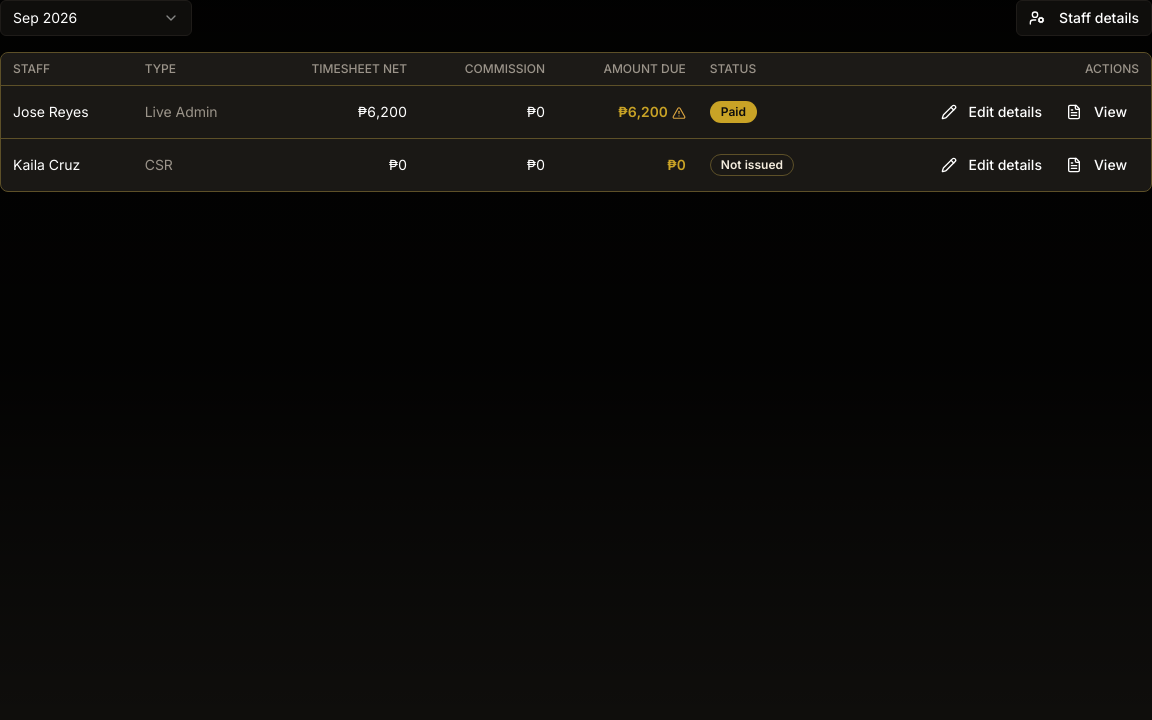
it: Payslips tab › a paid payslip shows the payment line, rate and the difference
The image size is (1152, 720).
Click the button "View" in the row of "Jose Reyes".
click(1096, 112)  # box [1054,94,1139,130]
(page scrolled)
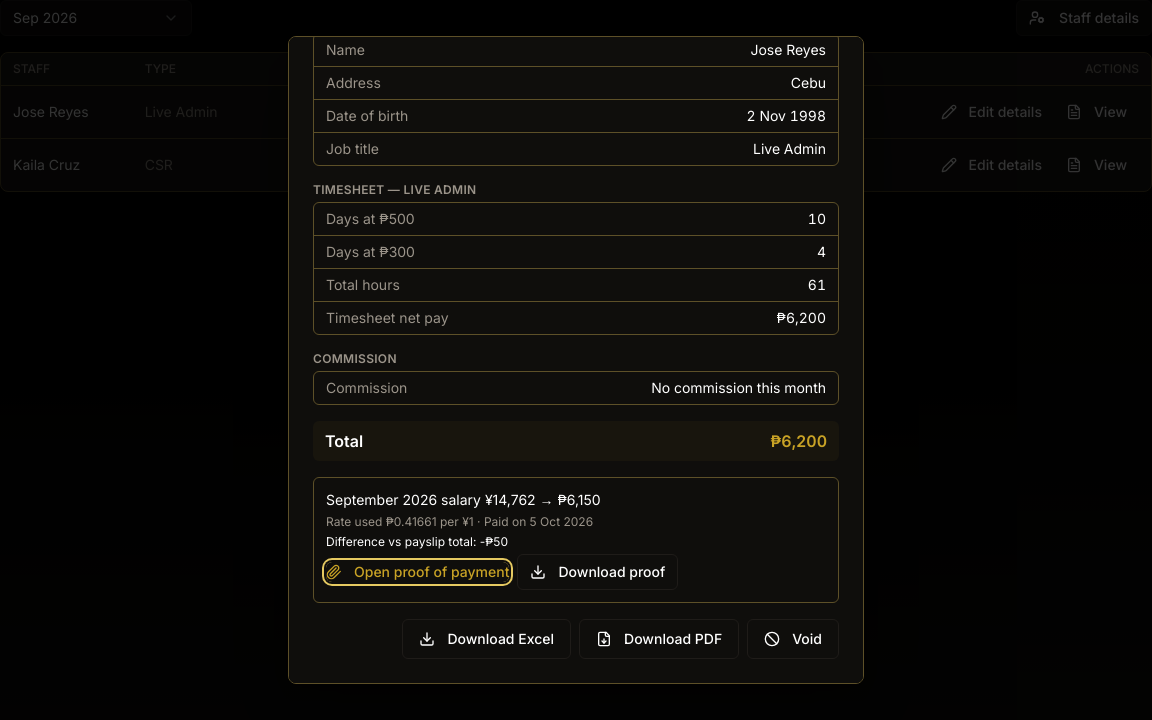
Check: the element with test id "payslip-payment" shows "September 2026 salary ¥14,762 → ₱6,150", box [313,477,839,603]
Check: the element with test id "payslip-payment" shows "Rate used ₱0.41661 per ¥1", box [313,477,839,603]
Check: the element with test id "payslip-payment" shows "Paid on 5 Oct 2026", box [313,477,839,603]
